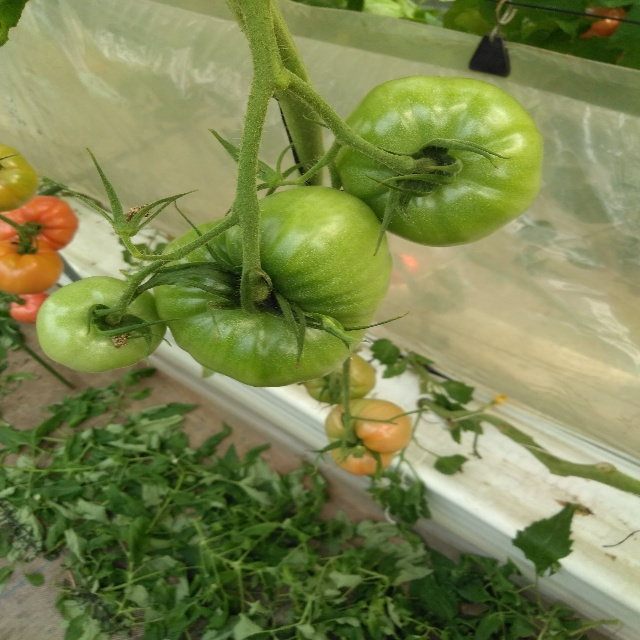b_fully_ripened: (0, 194, 78, 251)
b_green: (152, 185, 392, 388), (332, 75, 544, 248), (37, 276, 167, 373), (303, 352, 377, 405)
b_half_ripened: (325, 398, 412, 476), (0, 239, 63, 295), (0, 143, 40, 212), (10, 292, 49, 325)
